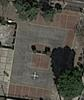parkingspot: (7, 84, 51, 100), (37, 10, 69, 30), (30, 52, 52, 72)
